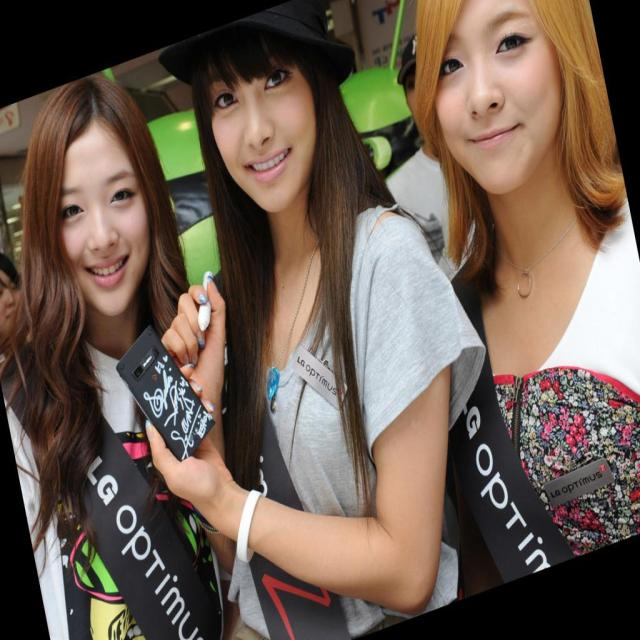handphone: (115, 333, 211, 459)
